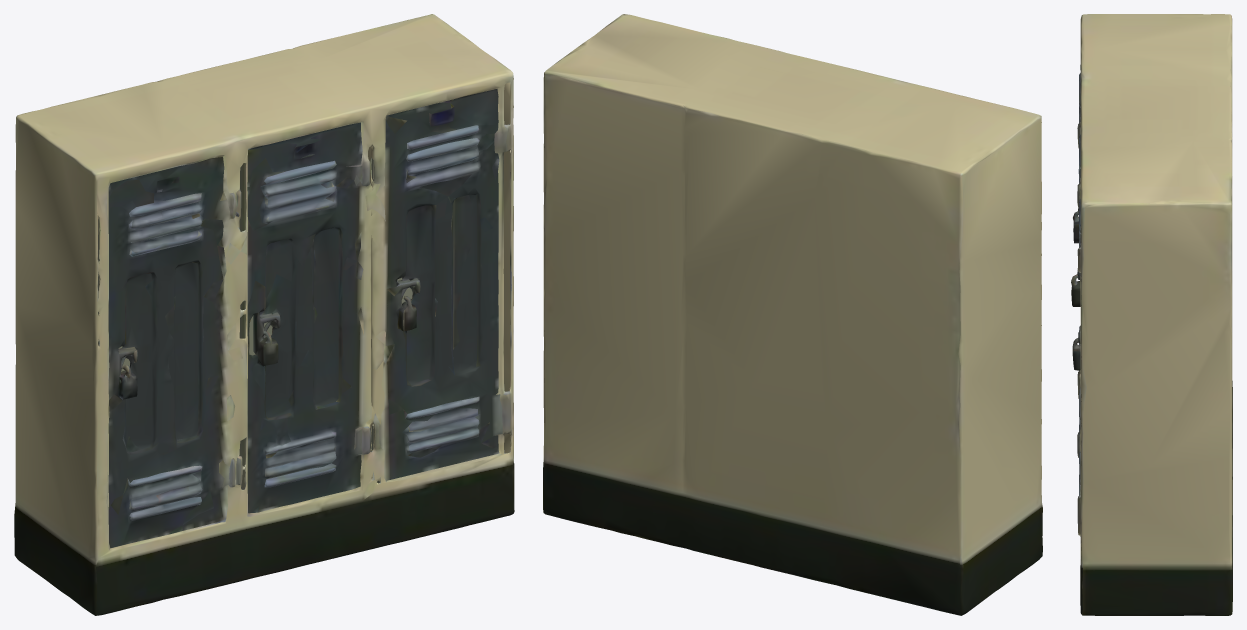
Rendered from locker.glb.
3 renders of one model, left to right at view 1: azimuth 30°, elevation 25°; view 2: azimuth 150°, elevation 25°; view 3: azimuth 270°, elevation 25°, orthographic. The views are drawn at different scales.
Parts seen in each view (by area): view 1: geometry_0; view 2: geometry_0; view 3: geometry_0.
Part boxes in pixels (x1=…): geometry_0: x1=14, y1=14, x2=514, y2=615; geometry_0: x1=543, y1=14, x2=1042, y2=615; geometry_0: x1=1071, y1=14, x2=1232, y2=615.
Size of the model in its own units: 0.9973 by 1 by 0.3567.
Materials: 1 (1 with a texture image).
